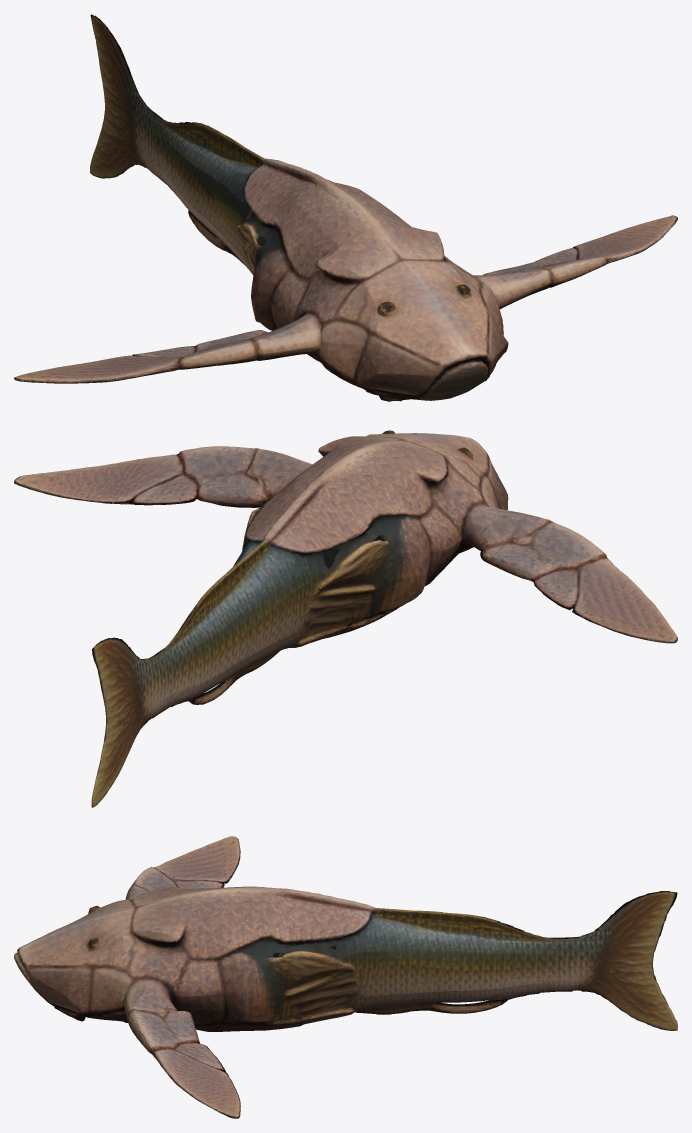
3 views of the same model, one above another, from view 1: azimuth 30°, elevation 25°; view 2: azimuth 150°, elevation 25°; view 3: azimuth 270°, elevation 25° (orthographic). The views are drawn at different scales.
Parts seen in each view (by area): view 1: world; view 2: world; view 3: world.
Part boxes in pixels (x1,y1,x2,y2): world: (14,14,677,401); world: (14,430,677,807); world: (14,836,677,1118).
Size of the model in its own units: 0.25 by 0.0591 by 0.2492.
Materials: 1 (1 with a texture image).
